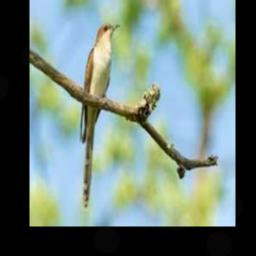Cuckoo: (79, 23, 121, 207)
